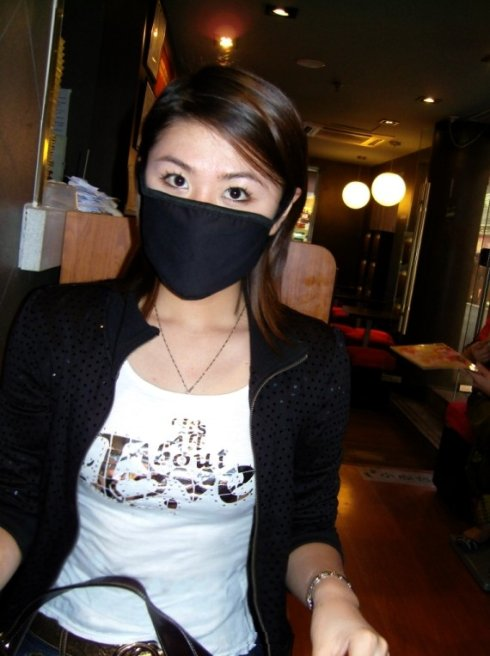face_mask: (142, 116, 278, 303)
